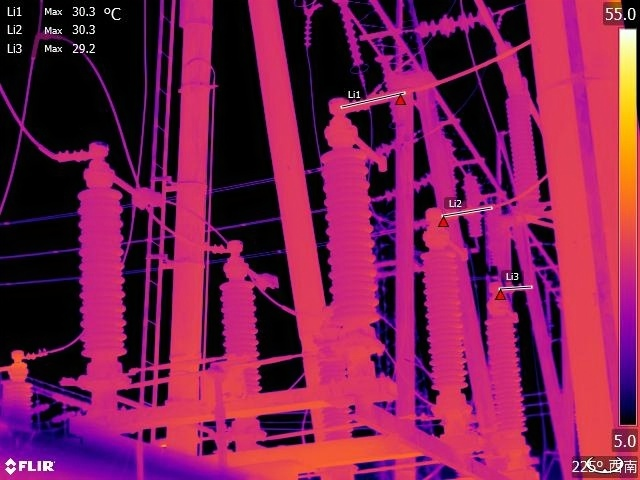clamp: (25, 26, 63, 45)
insulator: (414, 11, 487, 41), (336, 1, 363, 63)
post insulator: (67, 174, 127, 381), (318, 136, 382, 325), (416, 241, 469, 391), (217, 261, 269, 394), (483, 304, 528, 431)
switch: (90, 136, 157, 208), (333, 114, 392, 175), (228, 250, 280, 296), (422, 219, 472, 262)
tube: (302, 17, 317, 49)
